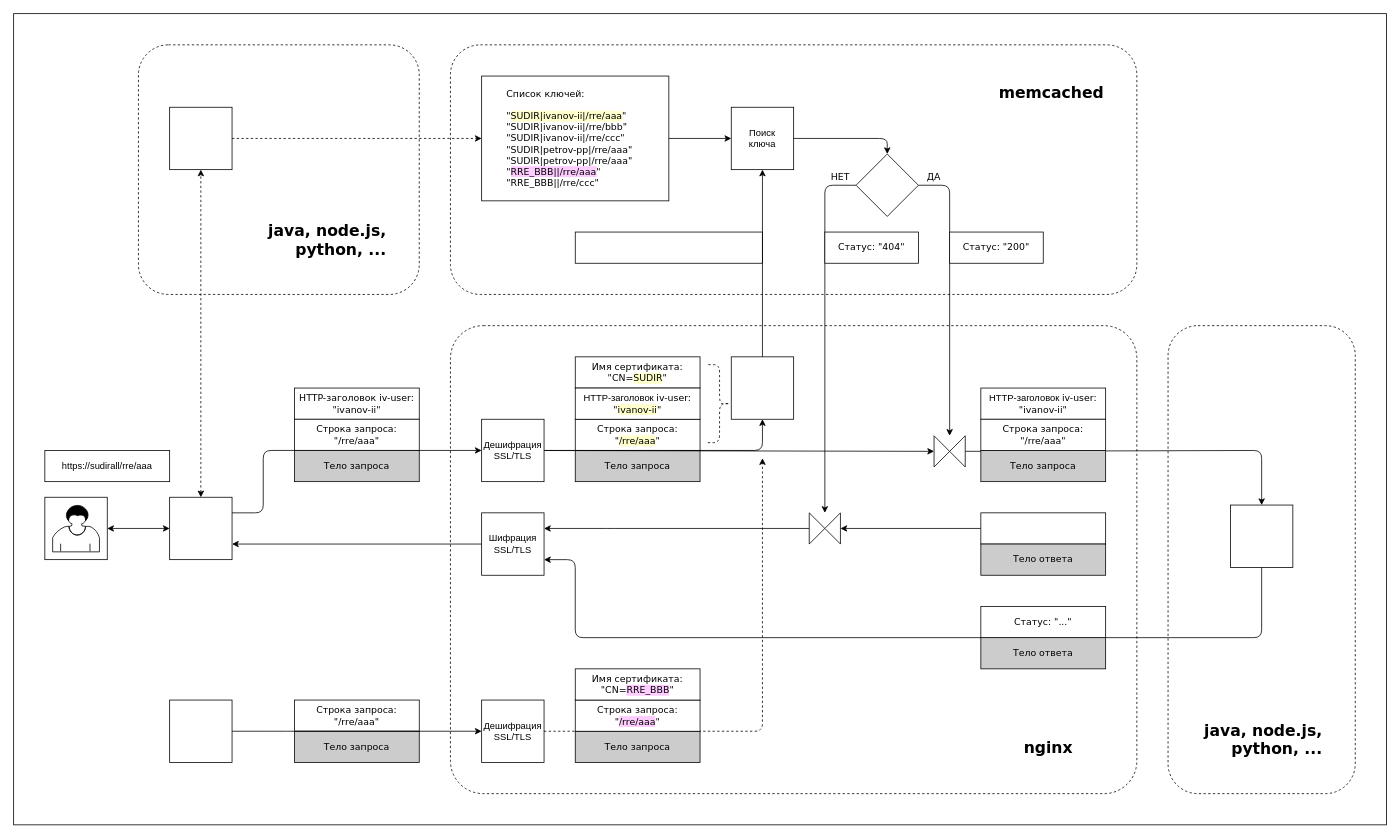
Image size: 1400x838. Some labels were removed from this diagram. Here are the shapes that lost their labels. From the top down, the centre of each, then its label:
the point at 200,138: Система управления
the point at 886,184: Найден?
the point at 668,247: Ключ: " SUDIR|ivanov-ii|/rre/aaa "
the point at 762,387: Формиро-вание ключа
the point at 200,528: СУДИР (Webseal)
the point at 1043,528: Статус: "403/404"
the point at 1261,535: Прило-жение
the point at 200,730: Другой сервис
